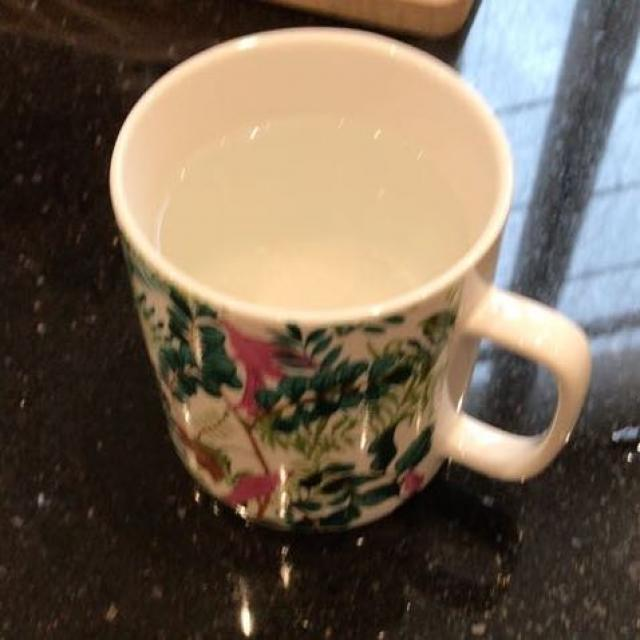water: (151, 120, 469, 307)
